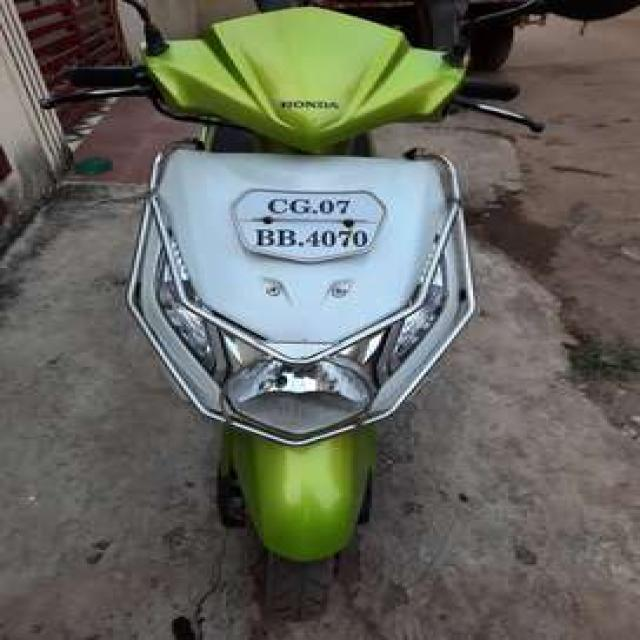license_plate: (228, 187, 386, 263)
